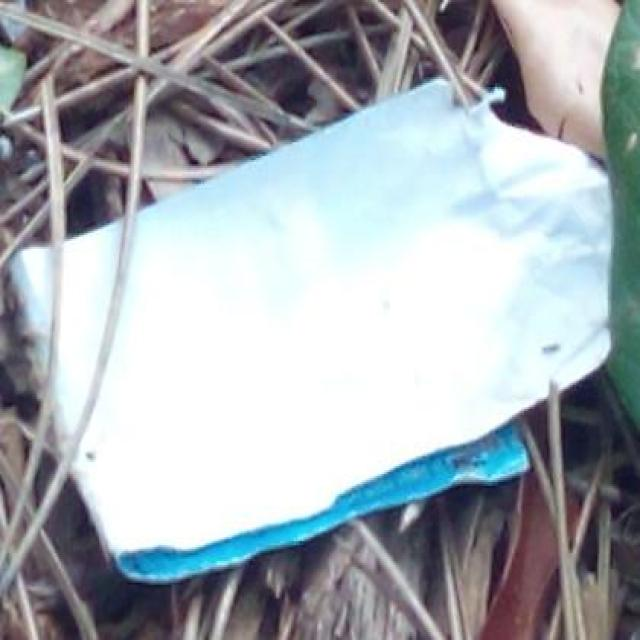litter: (11, 77, 614, 579)
